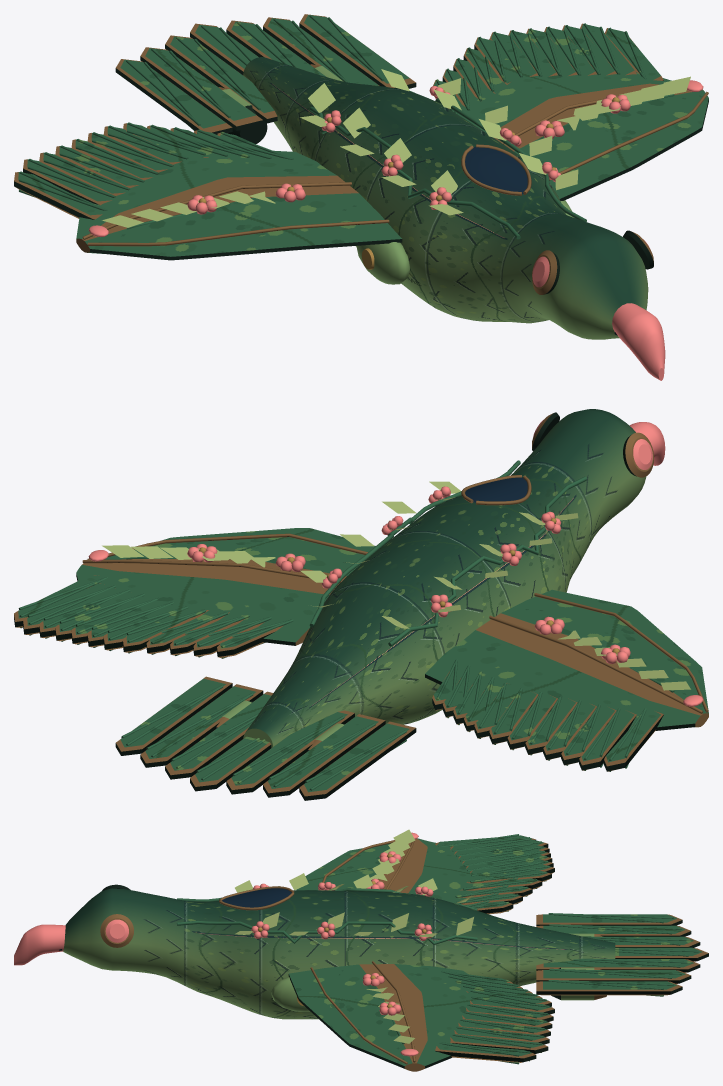
3 renders of one model, top to bottom at view 1: azimuth 30°, elevation 25°; view 2: azimuth 150°, elevation 25°; view 3: azimuth 270°, elevation 25°, orthographic. The views are drawn at different scales.
Visible parts, largest first — view 1: oxpecker_hull; view 2: oxpecker_hull; view 3: oxpecker_hull.
Part boxes in pixels (x1=…): oxpecker_hull: x1=14, y1=14, x2=708, y2=380; oxpecker_hull: x1=14, y1=409, x2=708, y2=800; oxpecker_hull: x1=14, y1=829, x2=708, y2=1071.
Size of the model in its own units: 12.31 by 3.09 by 16.
1 material, 1 textured.
